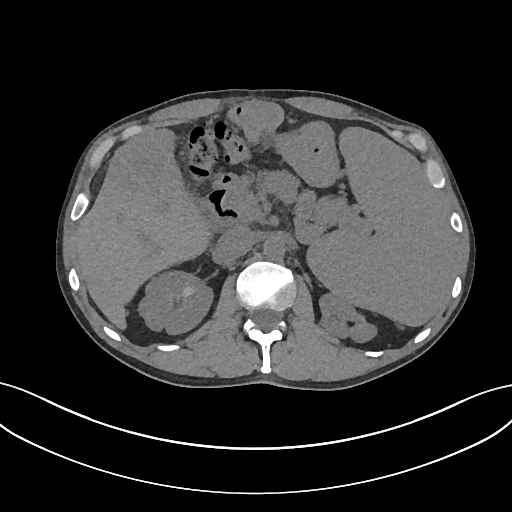Lesion: (177, 283, 199, 301)
